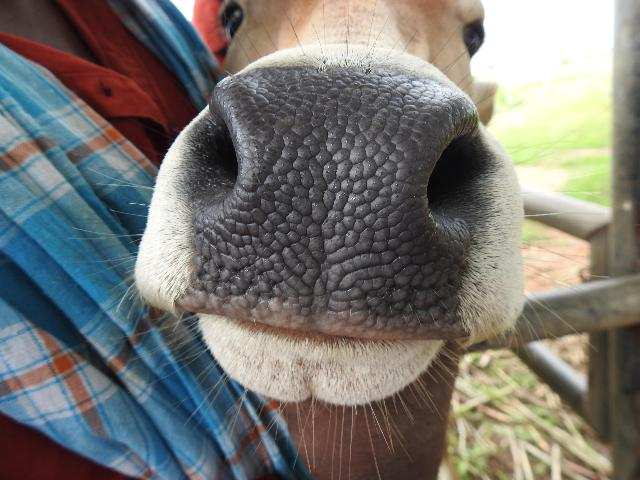Muzzle: (213, 79, 462, 326)
